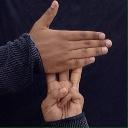hand: (28, 1, 113, 72), (40, 67, 84, 121)
